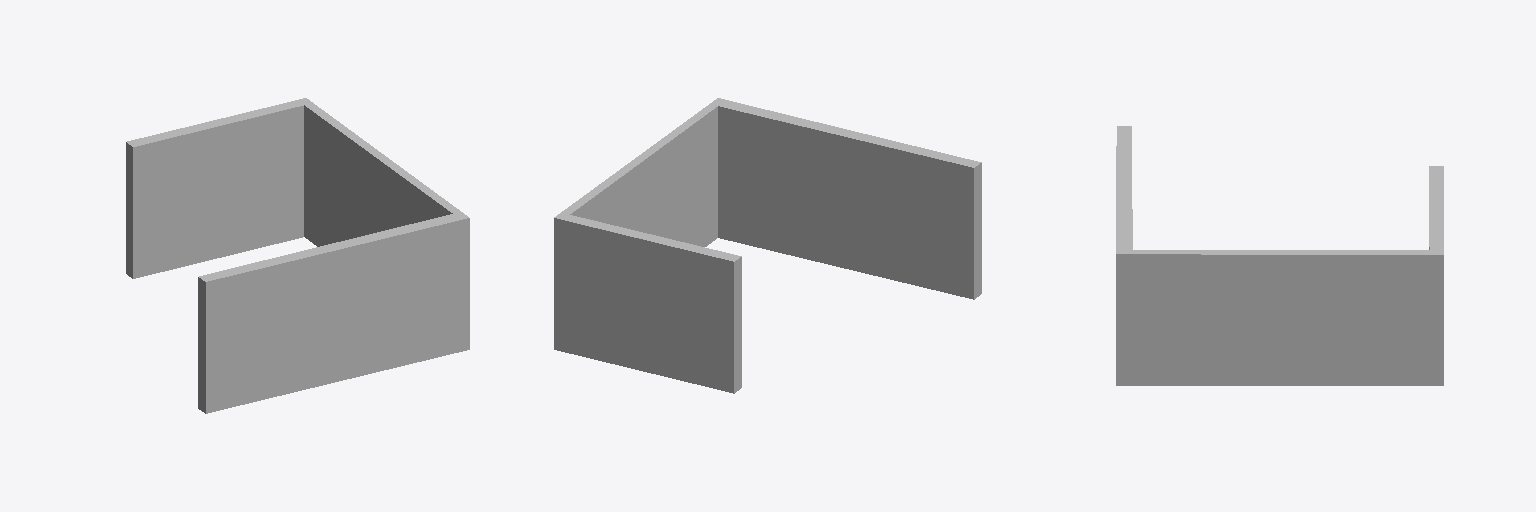
File: bright_105.obj
3 renders of one model, left to right at view 1: azimuth 30°, elevation 25°; view 2: azimuth 150°, elevation 25°; view 3: azimuth 270°, elevation 25°, orthographic.
Parts seen in each view (by area): view 1: polySurface15; view 2: polySurface15; view 3: polySurface15.
Part boxes in pixels (x1,y1,x2,y2): polySurface15: (126, 98, 469, 413); polySurface15: (554, 98, 981, 393); polySurface15: (1116, 126, 1443, 385).
Size of the model in its own units: 43.61 by 20.78 by 46.84.